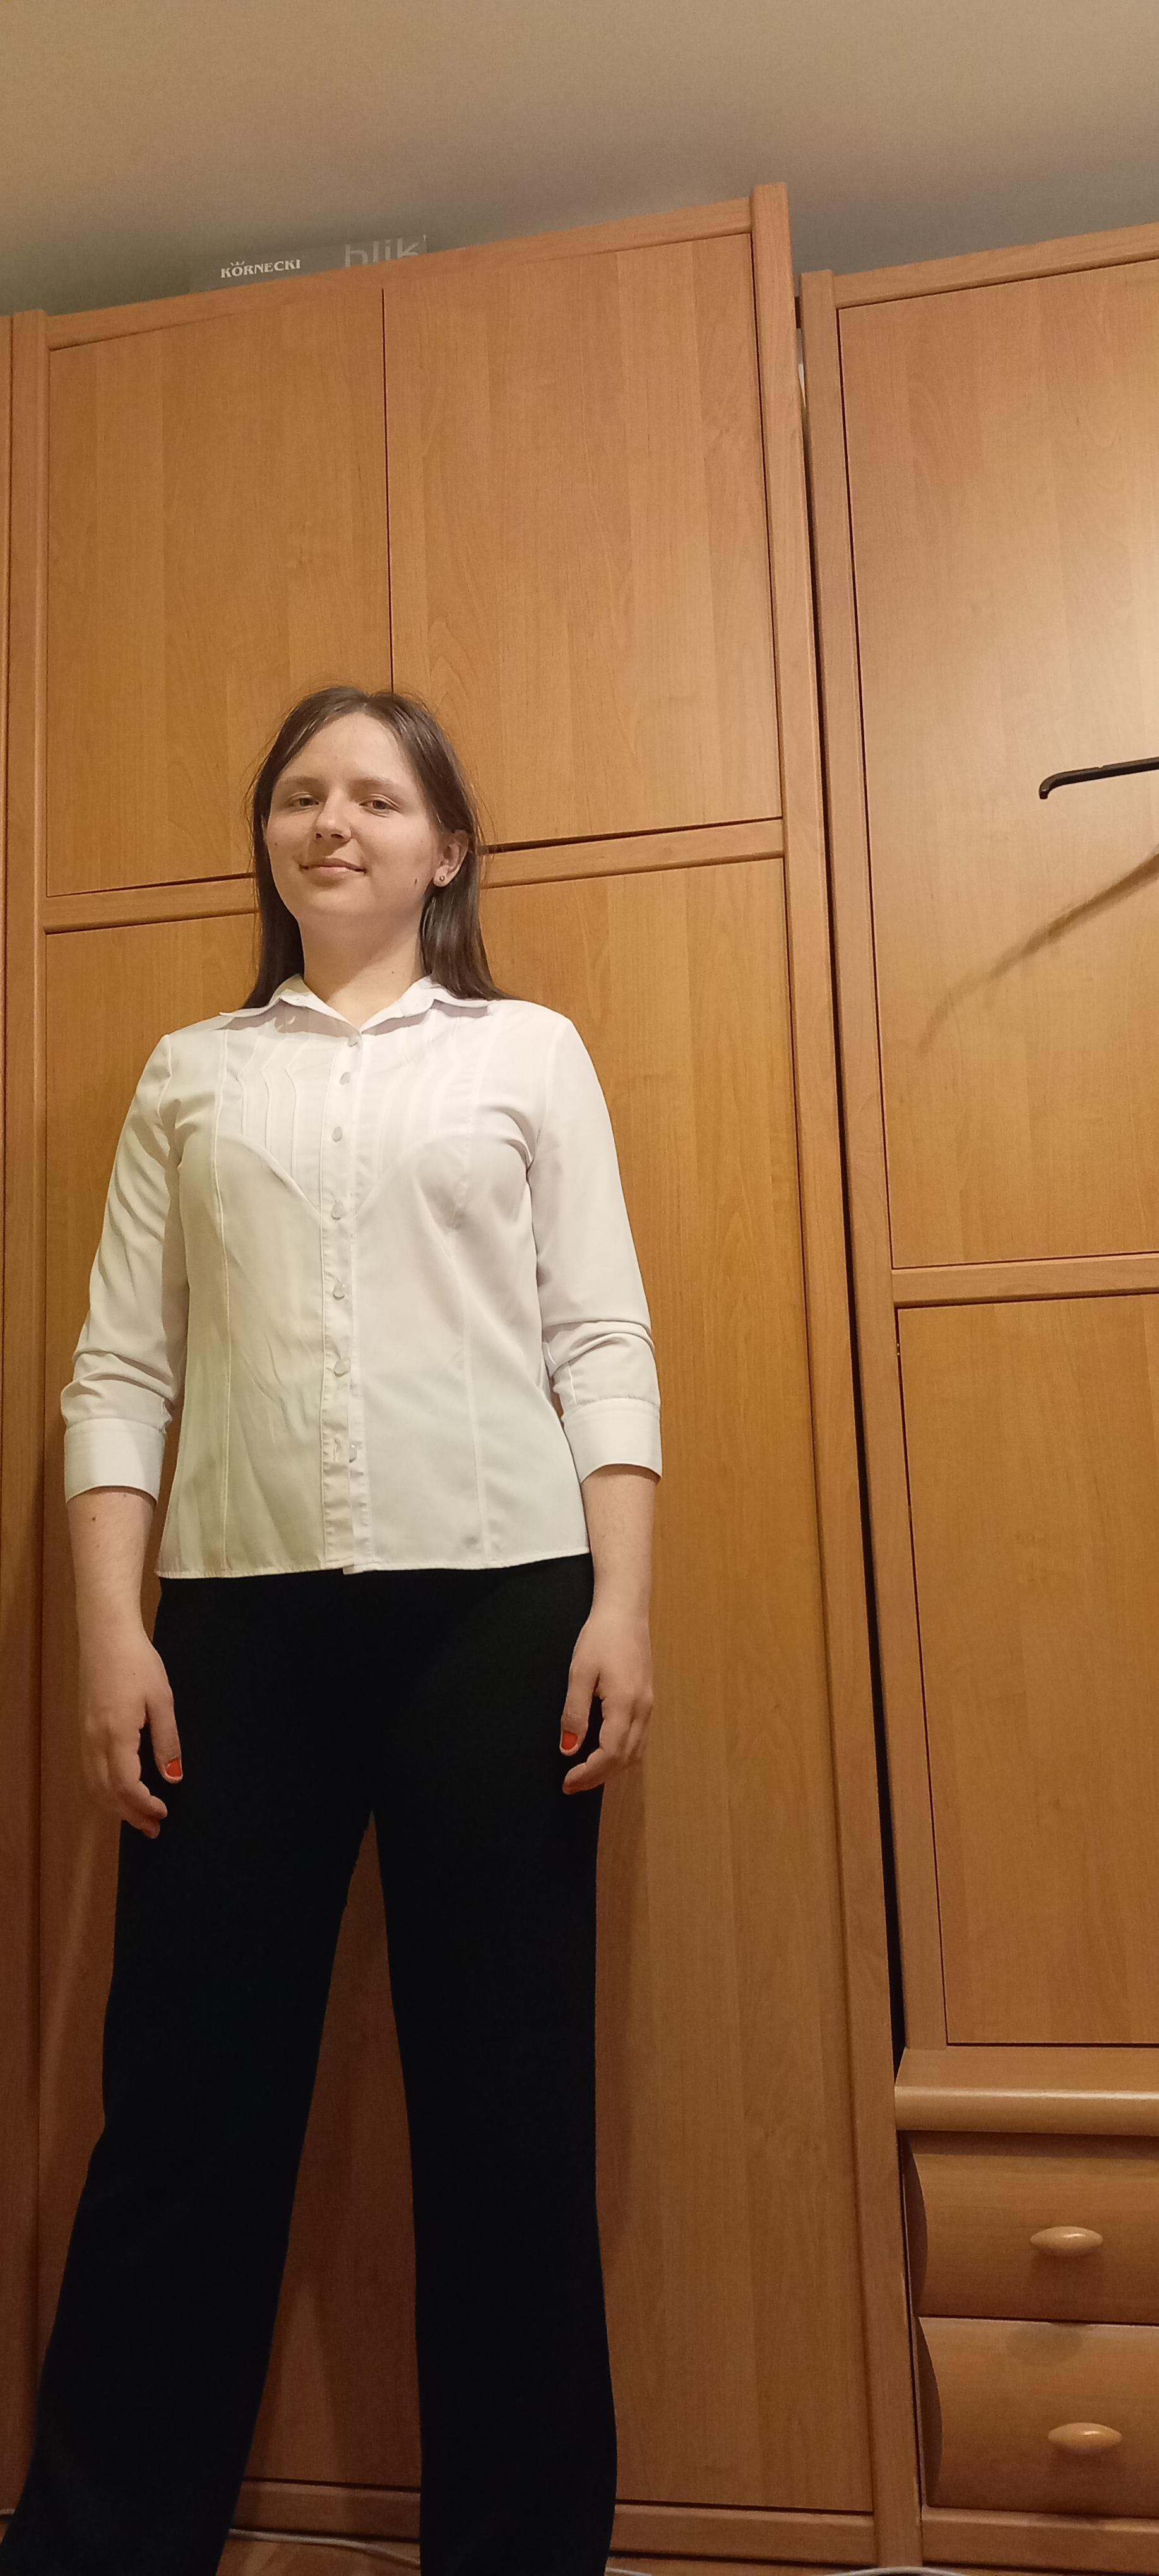pants: (0, 1551, 619, 2576)
shirt: (62, 977, 662, 1582)
